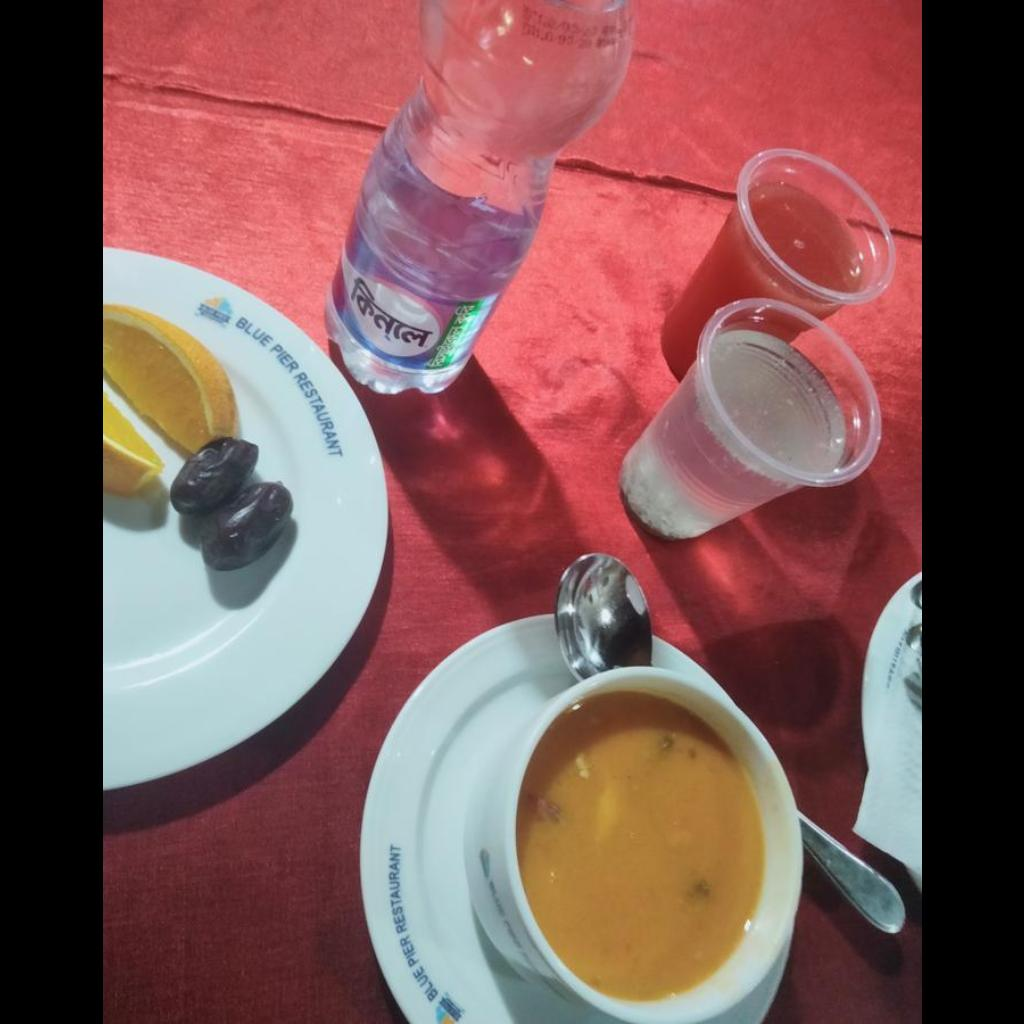daal: (518, 703, 757, 995)
dates: (170, 439, 297, 568)
juice: (714, 339, 839, 472)
orange: (102, 300, 235, 489)
